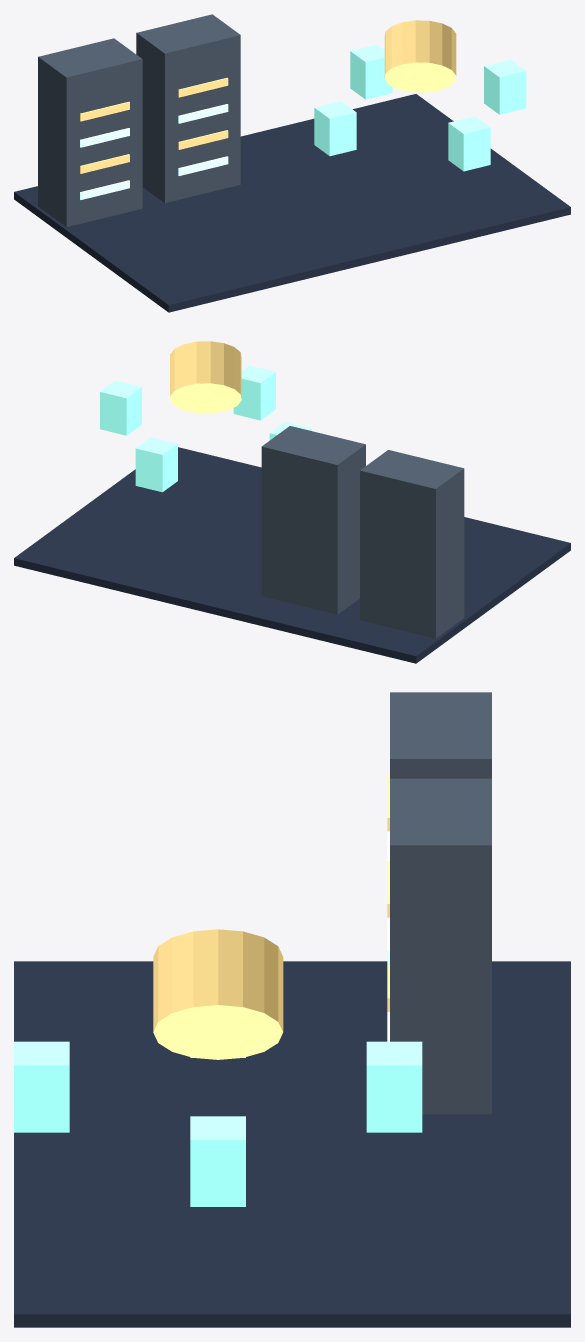
Rendered from sim-superlab.glb.
3 views of the same model, one above another, from view 1: azimuth 30°, elevation 25°; view 2: azimuth 150°, elevation 25°; view 3: azimuth 270°, elevation 25° (orthographic). The views are drawn at different scales.
Visible parts, largest first — view 1: sl-floor, sl-rack-0, sl-rack-1, sl-cp, sl-worker-1, sl-worker-2, sl-worker-0, sl-worker-3, sl-bay-1-2, sl-bay-1-3, sl-bay-1-1, sl-bay-1-0 (+4 smaller); view 2: sl-floor, sl-rack-0, sl-rack-1, sl-cp, sl-worker-3, sl-worker-0, sl-worker-1; view 3: sl-floor, sl-rack-1, sl-cp, sl-rack-0, sl-worker-3, sl-worker-1, sl-worker-0.
Part boxes in pixels (x1,y1,x2,y2): sl-floor: (14, 94, 570, 312); sl-rack-0: (38, 38, 142, 227); sl-rack-1: (136, 14, 240, 202); sl-cp: (384, 20, 456, 92); sl-worker-1: (448, 116, 490, 171); sl-worker-2: (314, 101, 356, 156); sl-worker-0: (484, 59, 526, 114); sl-worker-3: (350, 44, 392, 99); sl-bay-1-2: (178, 104, 228, 123); sl-bay-1-3: (178, 77, 228, 97); sl-bay-1-1: (178, 130, 228, 149); sl-bay-1-0: (178, 156, 228, 175); sl-floor: (14, 447, 570, 663); sl-rack-0: (360, 450, 464, 638); sl-rack-1: (261, 426, 365, 614); sl-cp: (170, 341, 241, 413); sl-worker-3: (135, 437, 177, 492); sl-worker-0: (100, 380, 141, 435); sl-worker-1: (233, 365, 275, 420); sl-floor: (14, 961, 570, 1327); sl-rack-1: (390, 778, 491, 1114); sl-cp: (153, 929, 283, 1059); sl-rack-0: (390, 692, 491, 778); sl-worker-3: (366, 1041, 422, 1132); sl-worker-1: (14, 1041, 69, 1132); sl-worker-0: (190, 1116, 245, 1206).
Size of what is drawn, in the model's own units: 4.55 by 1.72 by 3.
